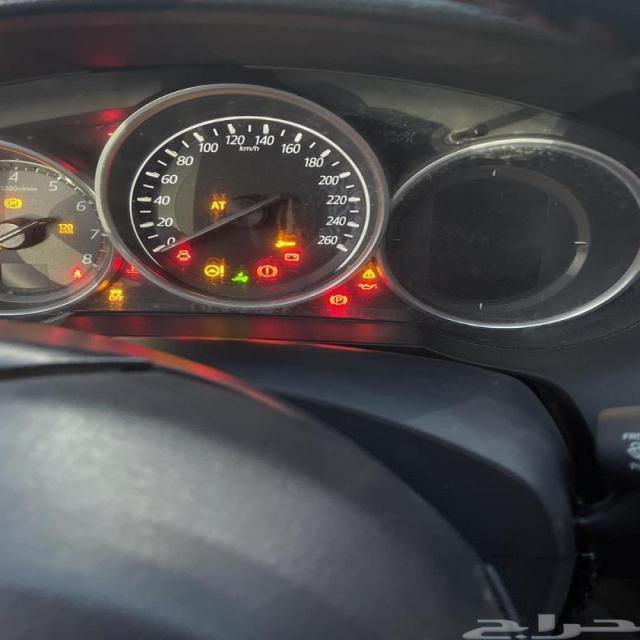Electronic Power Steering: (203, 263, 224, 278)
High Engine Coolant Temperature: (125, 264, 139, 274)
Seat Belt: (72, 268, 82, 280)
